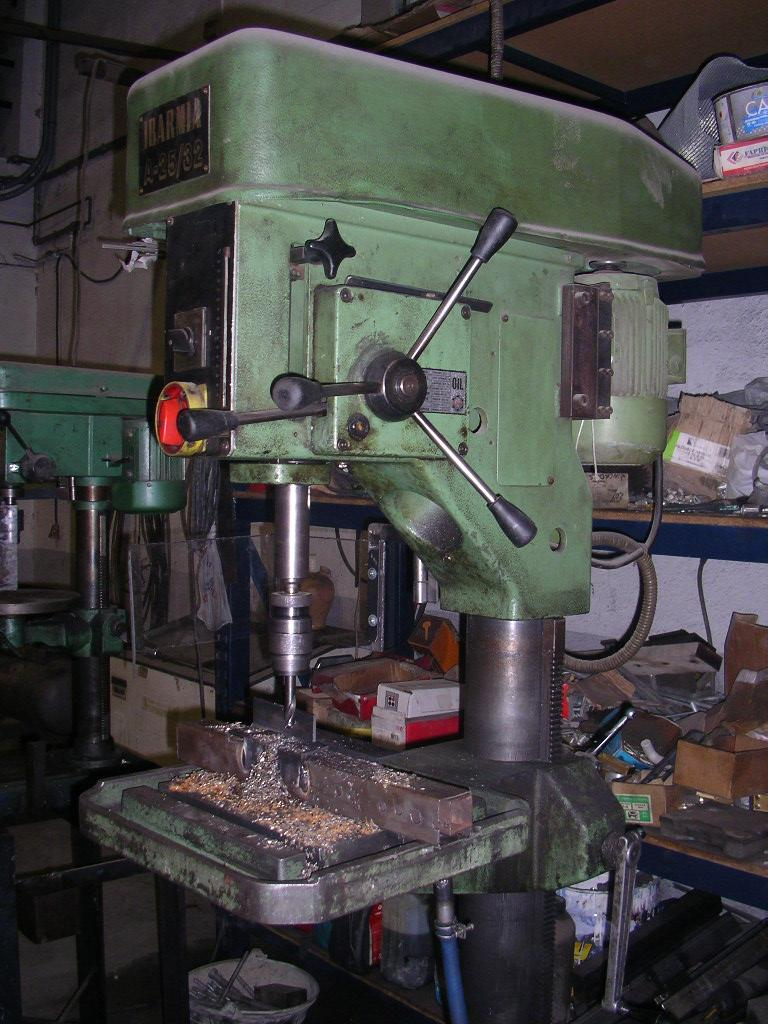falta_resguardo: (262, 466, 319, 726)
sin_senalizacion_riesgos: (276, 71, 452, 190)
